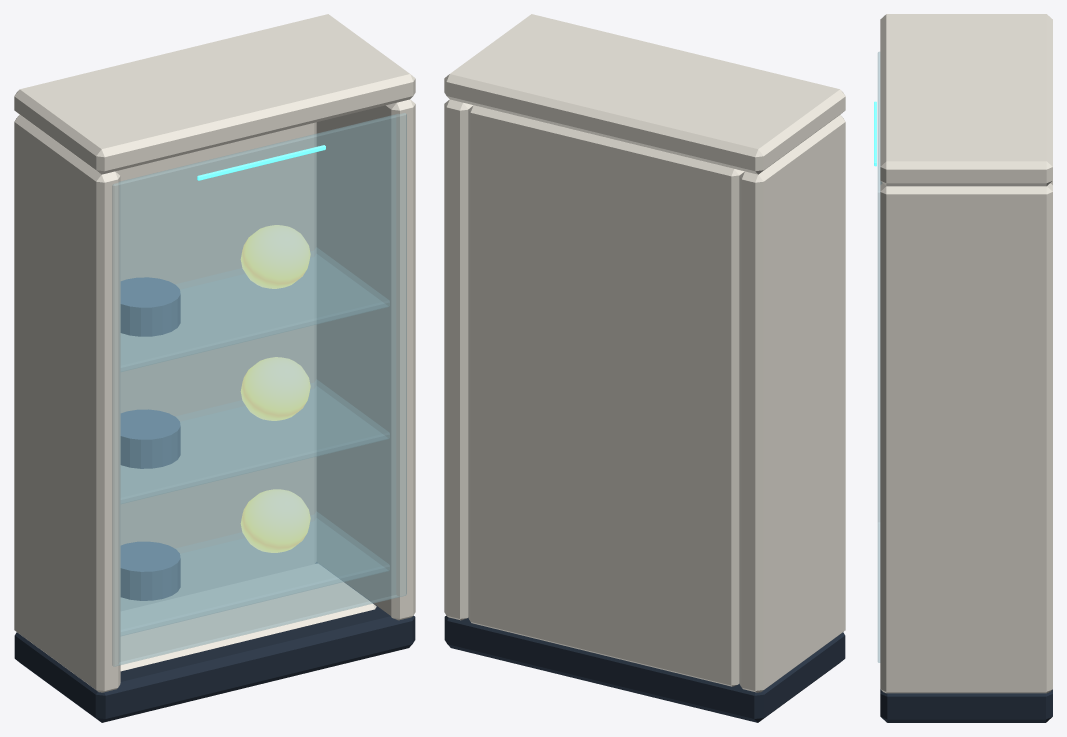
The model's file is storage_08.glb.
3 renders of one model, left to right at view 1: azimuth 30°, elevation 25°; view 2: azimuth 150°, elevation 25°; view 3: azimuth 270°, elevation 25°, orthographic. The views are drawn at different scales.
Visible parts, largest first — view 1: GlassDoor, Side (×2), Back, GlassShelf (×3), Top, Base, Bottom, Exhibit (×3), DisplayStand (×3), StatusLight; view 2: Back, Side (×2), Top, Base; view 3: Side, Top, Base, GlassDoor.
Part boxes in pixels (bbox=[...]): GlassDoor: bbox=[112, 113, 406, 666]; Side (×2): bbox=[14, 99, 415, 692]; Back: bbox=[115, 122, 316, 610]; GlassShelf (×3): bbox=[121, 253, 388, 635]; Top: bbox=[14, 14, 415, 174]; Base: bbox=[14, 562, 415, 722]; Bottom: bbox=[120, 564, 376, 671]; Exhibit (×3): bbox=[240, 225, 310, 552]; DisplayStand (×3): bbox=[120, 277, 180, 600]; StatusLight: bbox=[197, 145, 325, 180]; Back: bbox=[468, 105, 744, 686]; Side (×2): bbox=[444, 99, 845, 692]; Top: bbox=[444, 14, 845, 174]; Base: bbox=[444, 615, 845, 722]; Side: bbox=[880, 183, 1052, 693]; Top: bbox=[880, 14, 1052, 186]; Base: bbox=[880, 689, 1052, 722]; GlassDoor: bbox=[877, 51, 881, 662].
Size of the model in its own units: 0.92 by 1.58 by 0.456.
